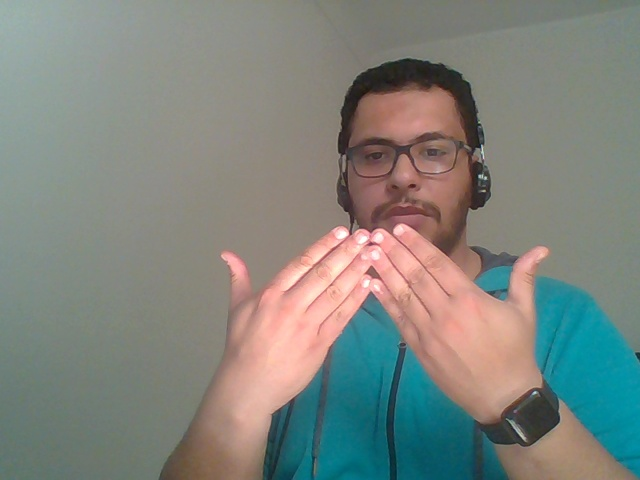thanks: (136, 189, 601, 480)
